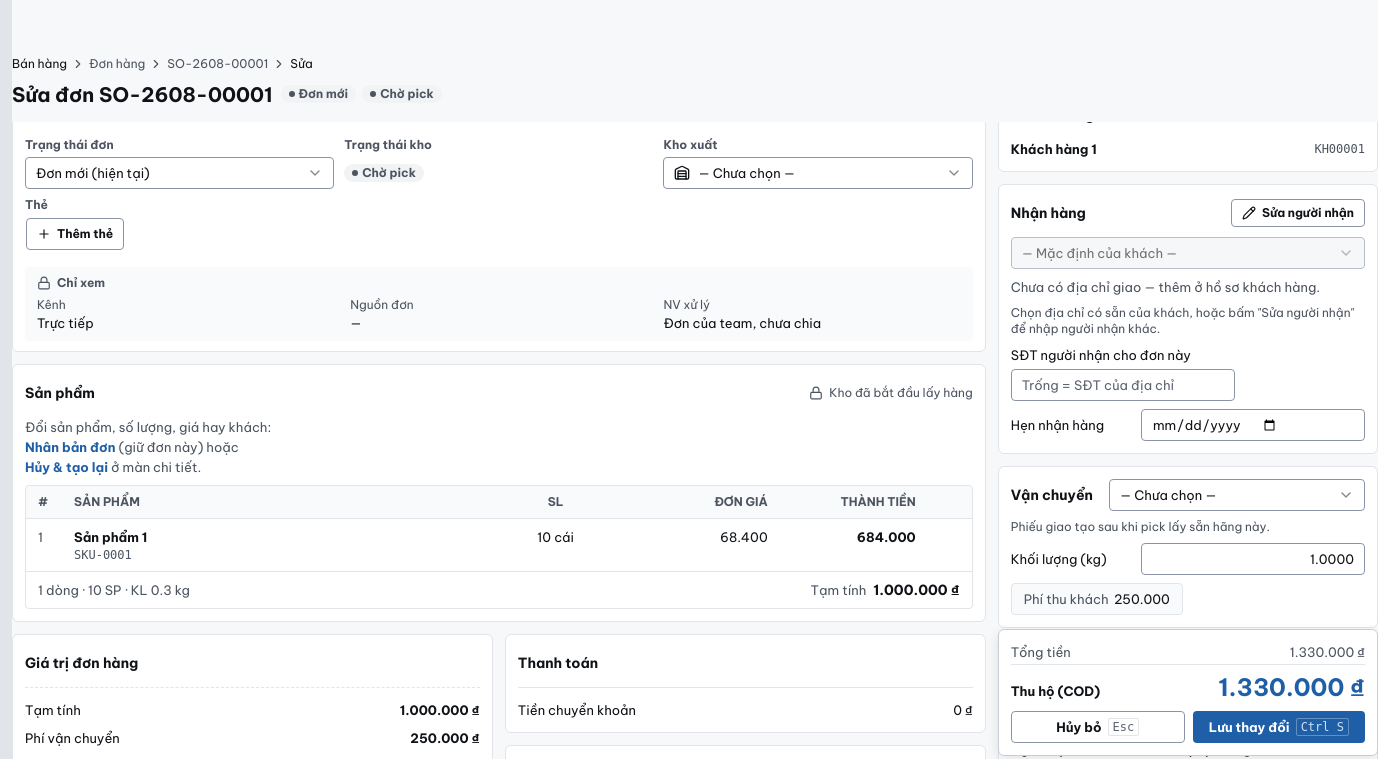
Test: OrderEditScreen — trang sửa đơn (D-05, PATCH /sales-orders/{id}) › chọn hãng có bảng cước (GHTK) → hỏi GET shipping-quote?carrierId và hiện cước; hãng không có quote → không hỏi
Expected: the heading "Sửa đơn SO-2608-00001" is shown, top-left (12, 82), bottom-right (272, 106)
Expected: the text "Cước hãng báo" is not shown
Select hãng khoá tới khi GET /carriers về.
Click the dropdown named "Hãng vận chuyển" at (1237, 495), box top-left (1109, 479), bottom-right (1365, 511)
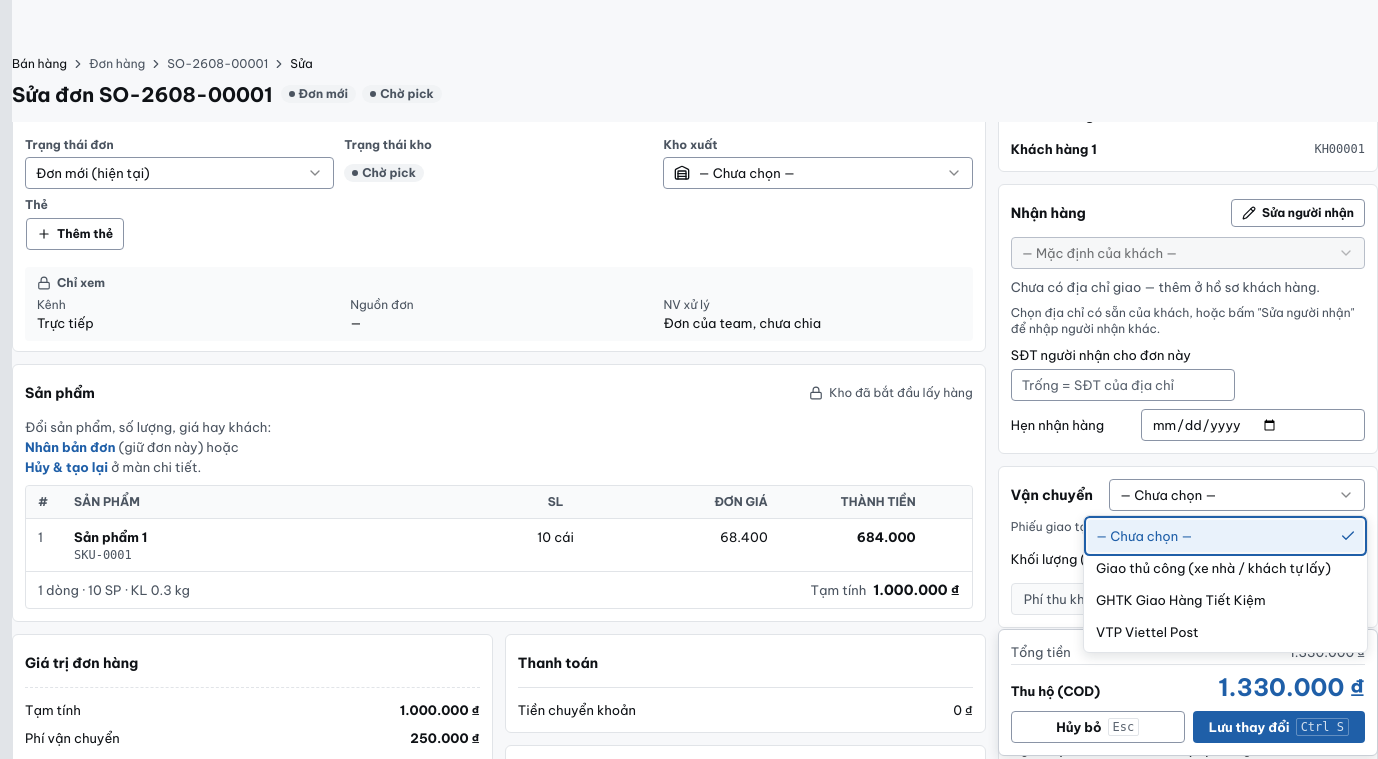
Click the option "GHTK Giao Hàng Tiết Kiệm" at (1181, 600), box top-left (1096, 592), bottom-right (1266, 608)
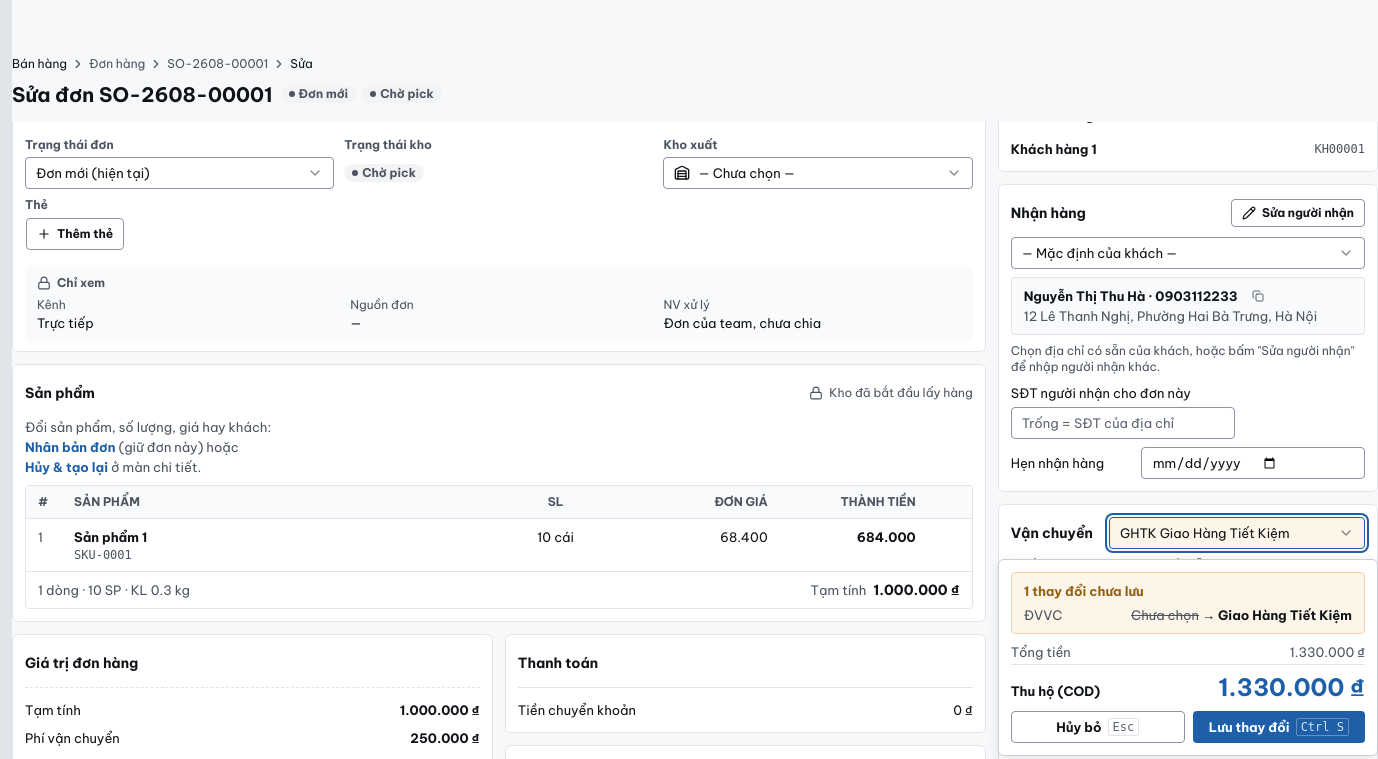
Expected: the text "0.7500 kg · Lấy hàng tại Hồ Chí Minh · Phường Tân Tạo A" is shown, top-left (1011, 661), bottom-right (1365, 677)
Now the text "Cước hãng báo" is shown, box top-left (1206, 627), bottom-right (1303, 647)
Now the message "28.000" is shown, box top-left (1305, 627), bottom-right (1352, 647)
Giao thủ công không có `quote` → dòng cước biến mất, không gọi thêm.
Click the dropdown named "Hãng vận chuyển" at (1237, 533), box top-left (1109, 517), bottom-right (1365, 549)
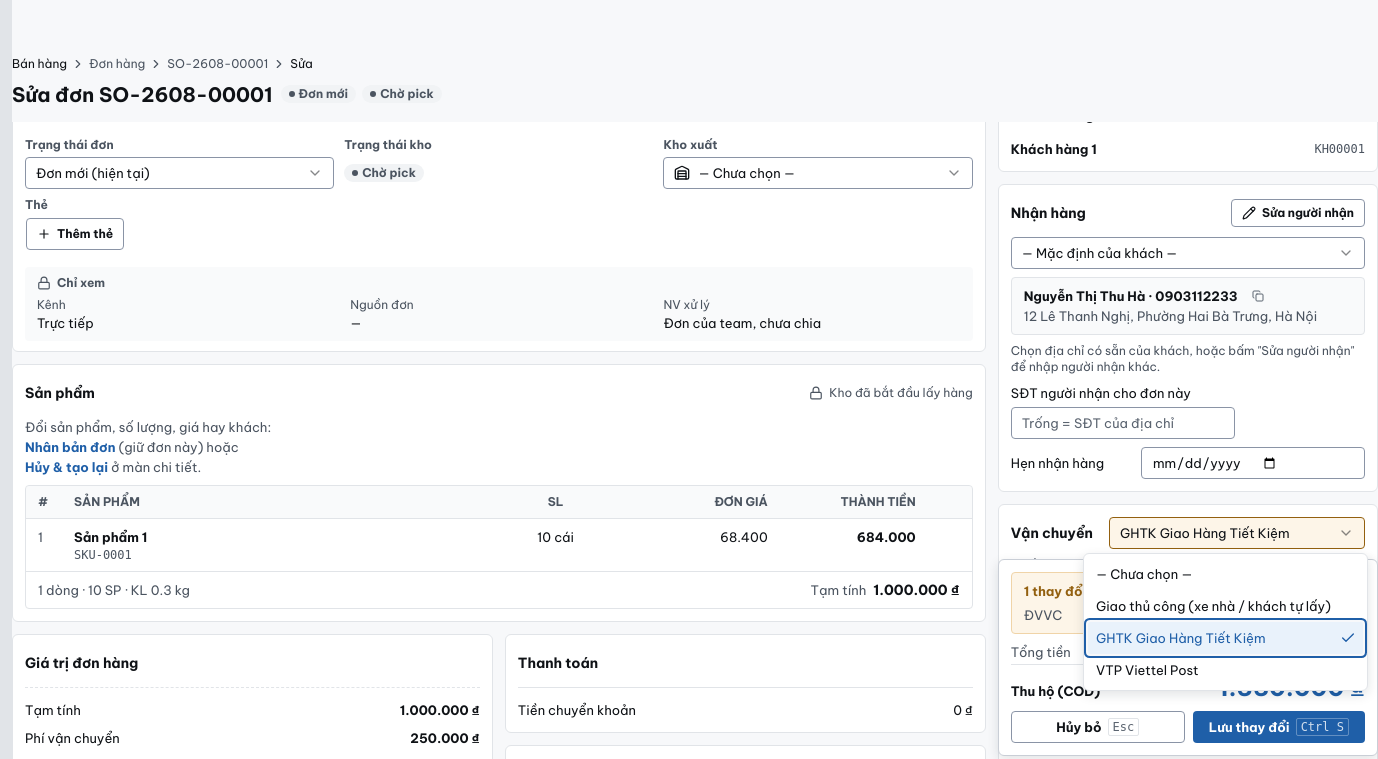
Click the option "Giao thủ công (xe nhà / khách tự lấy)" at (1213, 606), box top-left (1096, 598), bottom-right (1331, 614)
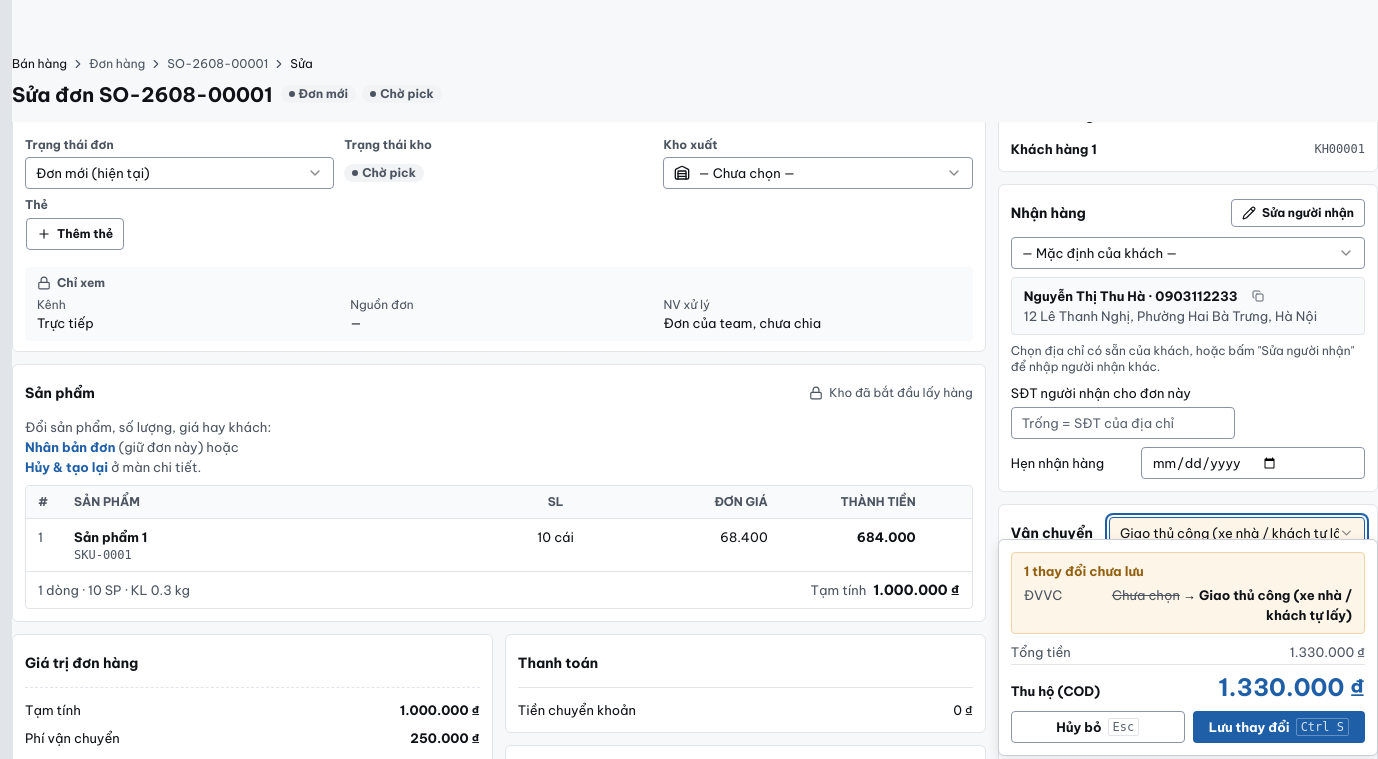
Now the text "Cước hãng báo" is gone
